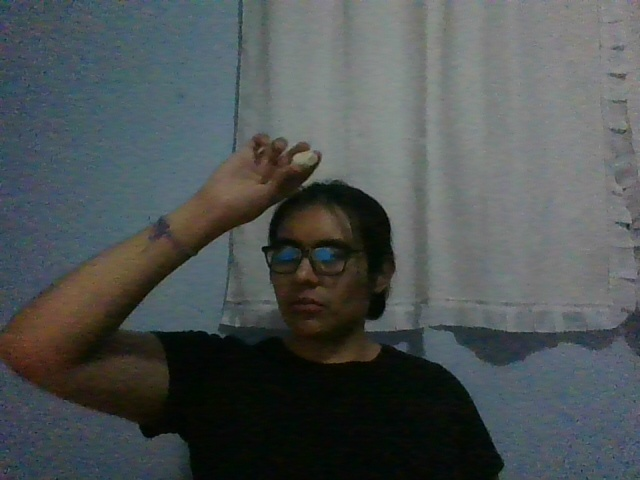goma: (292, 151, 318, 167)
